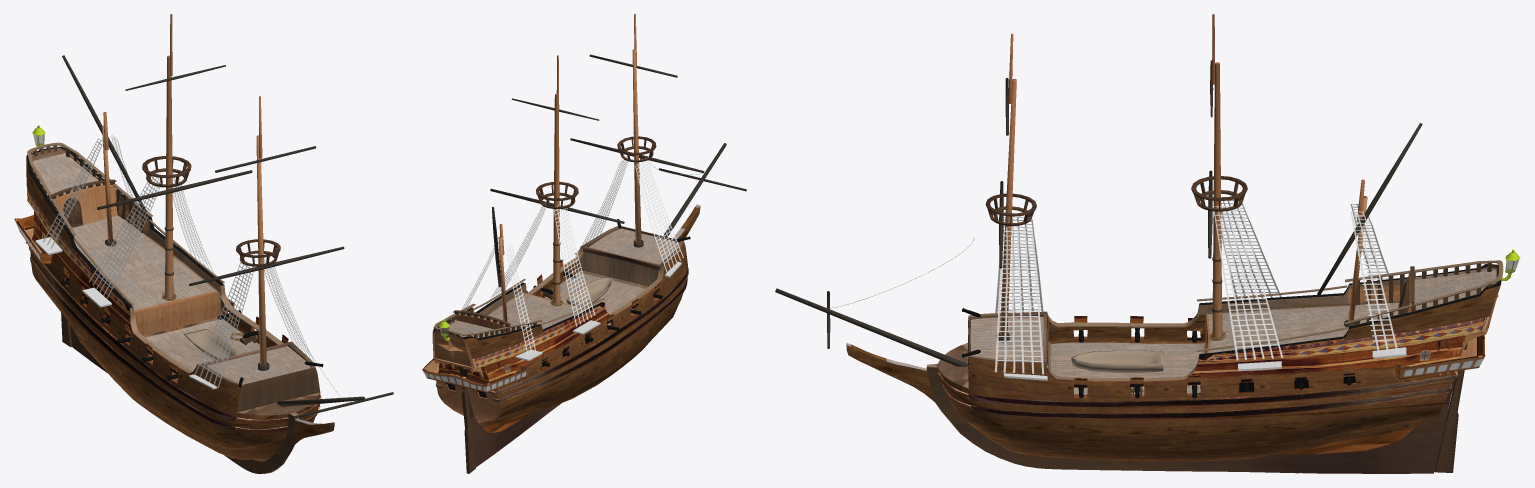
Rendered from fregate17e.glb.
3 renders of one model, left to right at view 1: azimuth 30°, elevation 25°; view 2: azimuth 150°, elevation 25°; view 3: azimuth 270°, elevation 25°, orthographic. The views are drawn at different scales.
Visible parts, largest first — view 1: Plane, cordageMisaine, Cylinder.001, cordageGrandMat, Plane.003, Cylinder, Plane.002, Plane.005, Cylinder.014, cordageArtimont, chaloupe, Cube.009 (+5 smaller); view 2: Plane, cordageMisaine, cordageGrandMat, Cylinder.001, Cylinder, Plane.003, Plane.002, cordageArtimont, chaloupe, Cylinder.014, rudder, grandMatVigie (+4 smaller); view 3: Plane, cordageGrandMat, cordageMisaine, Plane.003, Plane.002, Cylinder.001, Cylinder, cordageArtimont, chaloupe, Plane.005, Cylinder.014, rudder (+4 smaller).
Boxes of the visible parts, left/top/right/bottom form: Plane: left=14, top=142, right=334, bottom=473; cordageMisaine: left=195, top=257, right=314, bottom=387; Cylinder.001: left=189, top=96, right=344, bottom=365; cordageGrandMat: left=89, top=173, right=213, bottom=298; Plane.003: left=29, top=247, right=321, bottom=424; Cylinder: left=164, top=14, right=173, bottom=297; Plane.002: left=30, top=257, right=320, bottom=433; Plane.005: left=32, top=152, right=102, bottom=201; Cylinder.014: left=62, top=55, right=146, bottom=242; cordageArtimont: left=43, top=135, right=138, bottom=248; chaloupe: left=184, top=329, right=237, bottom=360; Cube.009: left=30, top=145, right=145, bottom=233; Plane: left=422, top=204, right=700, bottom=467; cordageMisaine: left=582, top=156, right=683, bottom=272; cordageGrandMat: left=487, top=197, right=595, bottom=326; Cylinder.001: left=570, top=14, right=704, bottom=242; Cylinder: left=552, top=55, right=560, bottom=303; Plane.003: left=487, top=267, right=688, bottom=395; Plane.002: left=435, top=278, right=687, bottom=402; cordageArtimont: left=461, top=243, right=535, bottom=355; chaloupe: left=566, top=277, right=612, bottom=307; Cylinder.014: left=492, top=207, right=507, bottom=324; rudder: left=461, top=387, right=475, bottom=473; grandMatVigie: left=536, top=181, right=578, bottom=209; Plane: left=846, top=260, right=1503, bottom=473; cordageGrandMat: left=1213, top=197, right=1282, bottom=360; cordageMisaine: left=995, top=217, right=1044, bottom=374; Plane.003: left=937, top=371, right=1457, bottom=407; Plane.002: left=942, top=384, right=1451, bottom=419; Cylinder.001: left=999, top=33, right=1016, bottom=335; Cylinder: left=1212, top=14, right=1222, bottom=337; cordageArtimont: left=1350, top=204, right=1398, bottom=353; chaloupe: left=1071, top=350, right=1163, bottom=372; Plane.005: left=1414, top=268, right=1496, bottom=310; Cylinder.014: left=1317, top=123, right=1422, bottom=323; rudder: left=1434, top=343, right=1467, bottom=472.
Size of the model in its own units: 8.45 by 21.2 by 31.21.
Materials: 15 (6 with a texture image).
